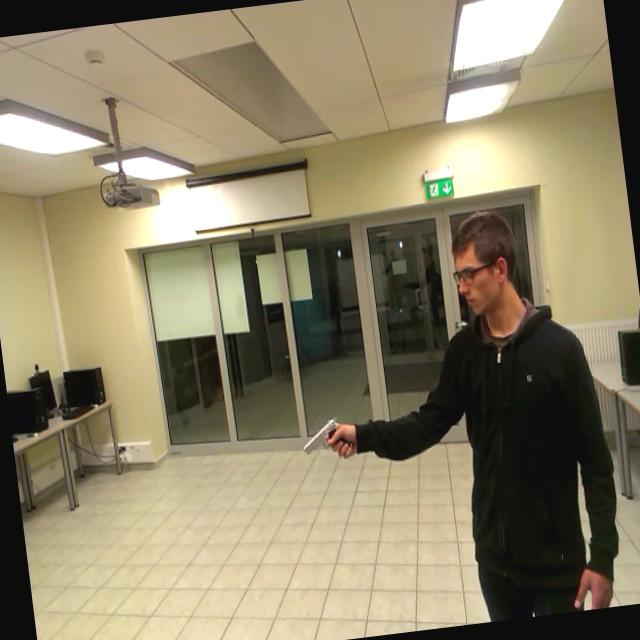handgun: (296, 408, 361, 472)
